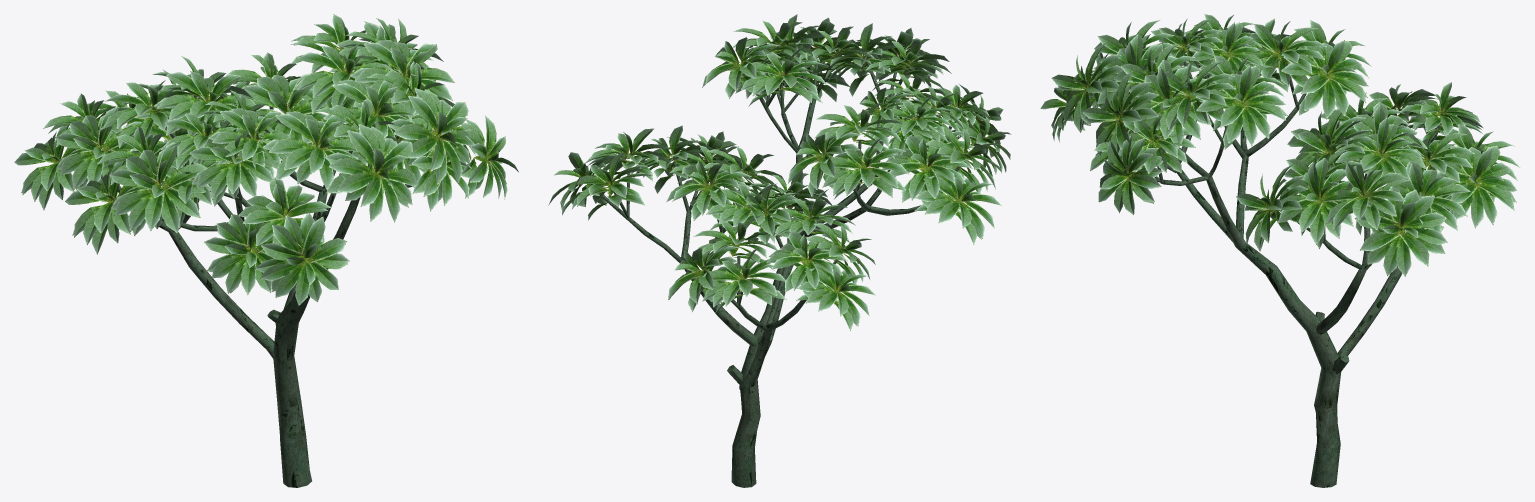
File: tree-two.glb
3 renders of one model, left to right at view 1: azimuth 30°, elevation 25°; view 2: azimuth 150°, elevation 25°; view 3: azimuth 270°, elevation 25°, orthographic. The views are drawn at different scales.
Size of the model in its own units: 211 by 231 by 230.
Materials: 3 (2 with a texture image).
